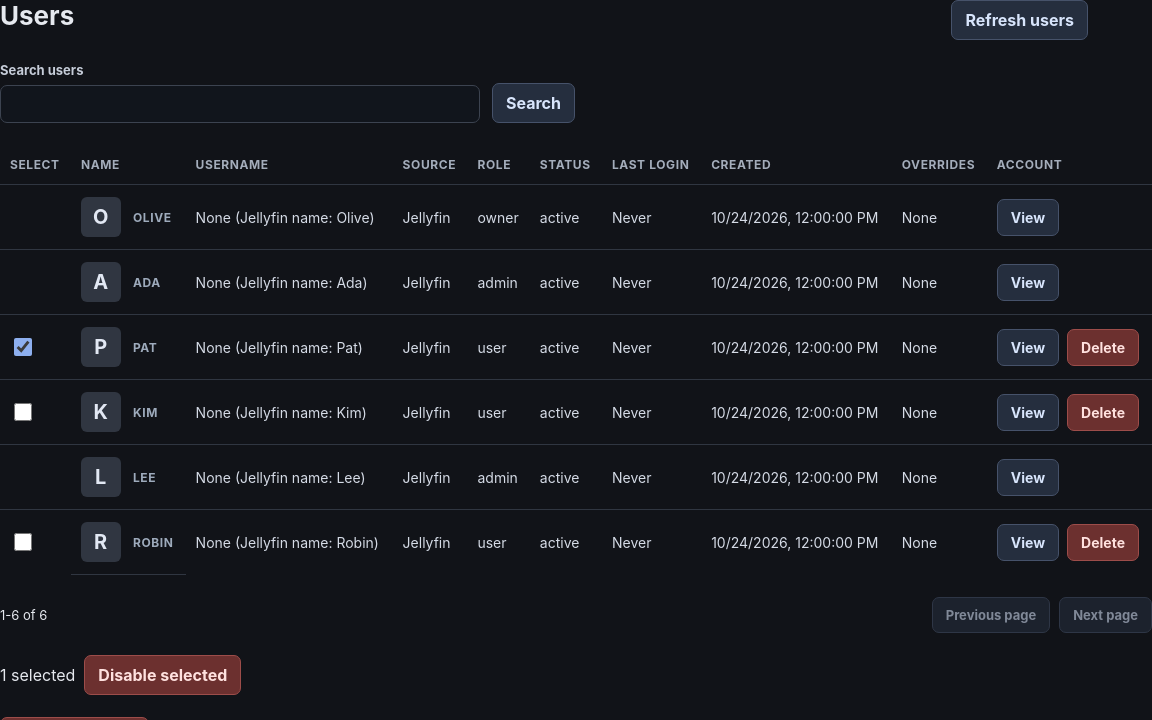
Test case: Account deletion entry points › offers bulk confirmation only after every preview settles, and submits exactly the reviewed targets
The width and height of the screenshot is (1152, 720).
Earlier steps of the test are not shown.
Later steps or results of the test are not shown.
Click the checkbox named "Select Kim" at (23, 412), box left=14, top=403, right=32, bottom=421
(page scrolled)
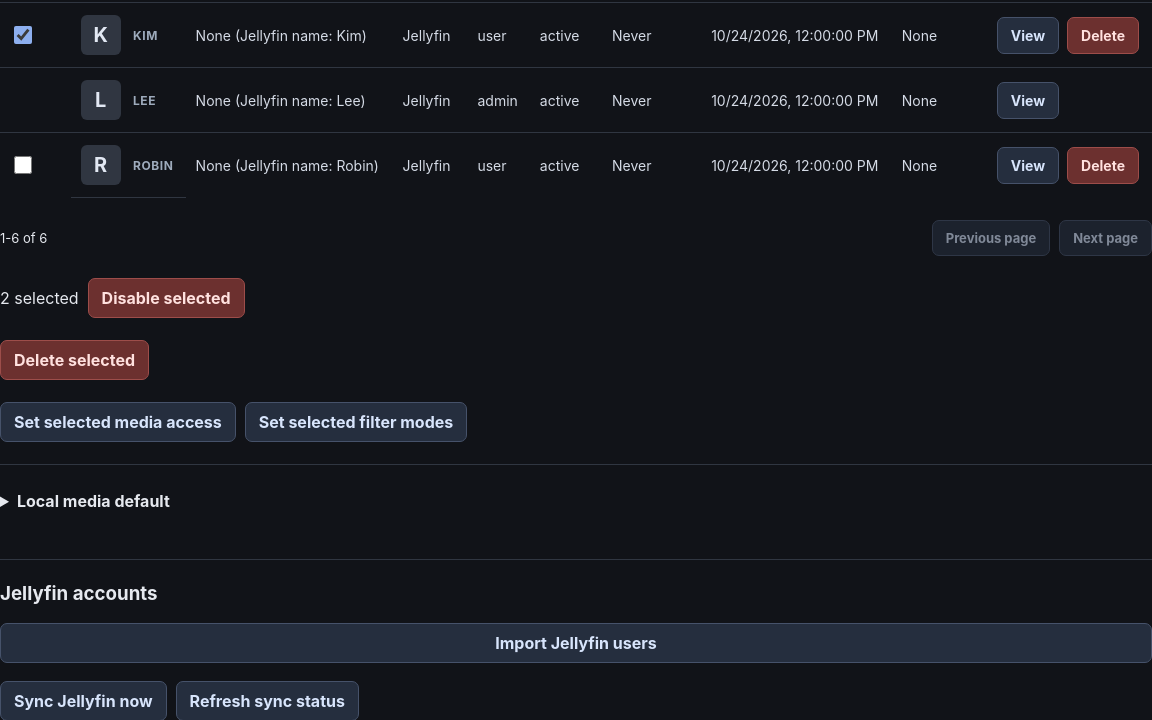
Click the button "Delete selected" at (75, 360), box left=0, top=340, right=149, bottom=380
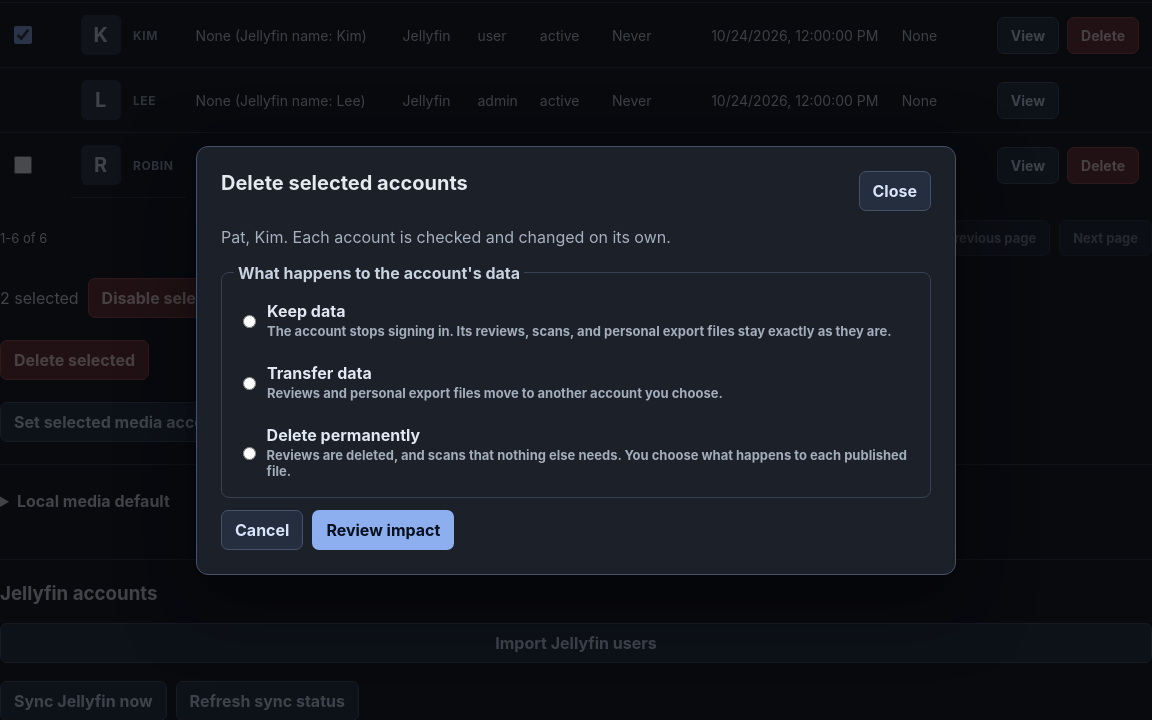
Click the radio button labelled "Keep data" at (250, 321), box left=243, top=314, right=256, bottom=328
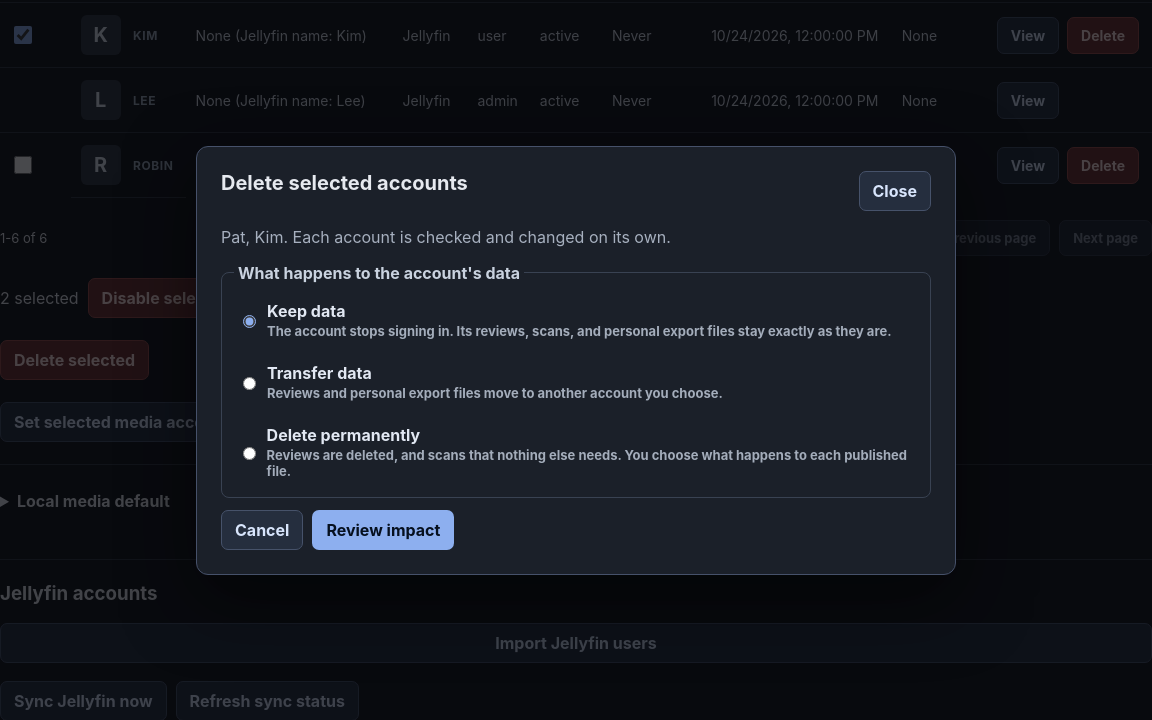
Click the button "Review impact" at (383, 530), box left=312, top=510, right=454, bottom=550
(page scrolled)
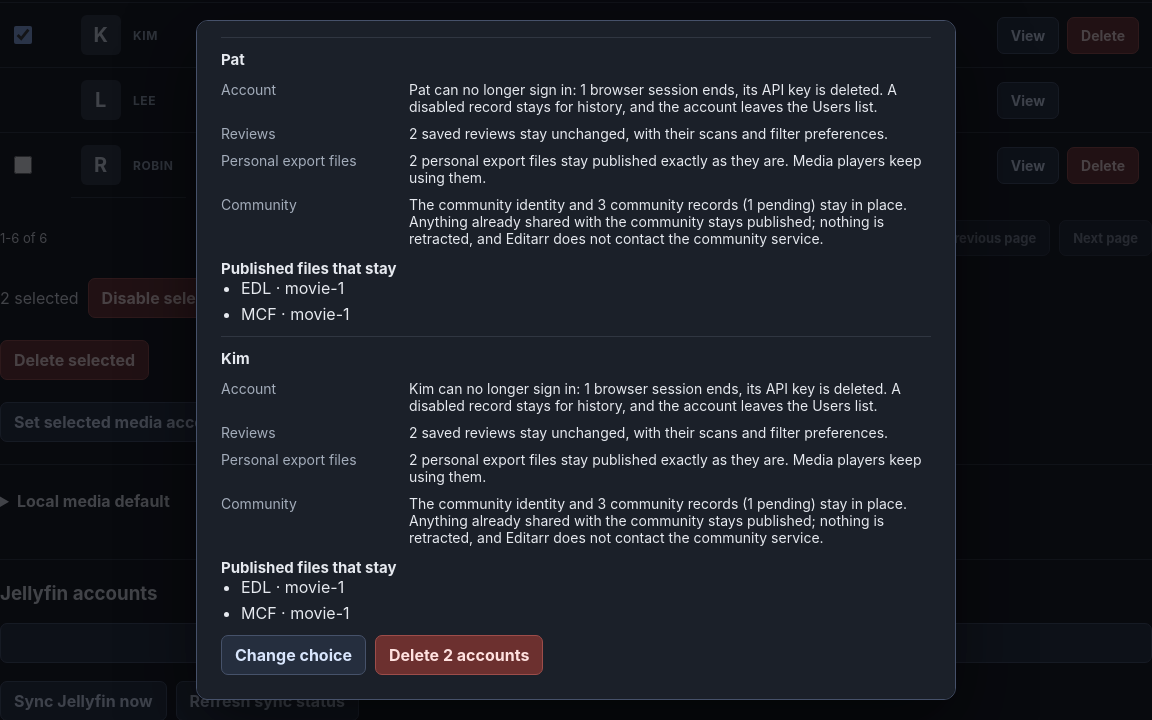
Click the button "Delete 2 accounts" at (459, 655), box left=375, top=635, right=543, bottom=675
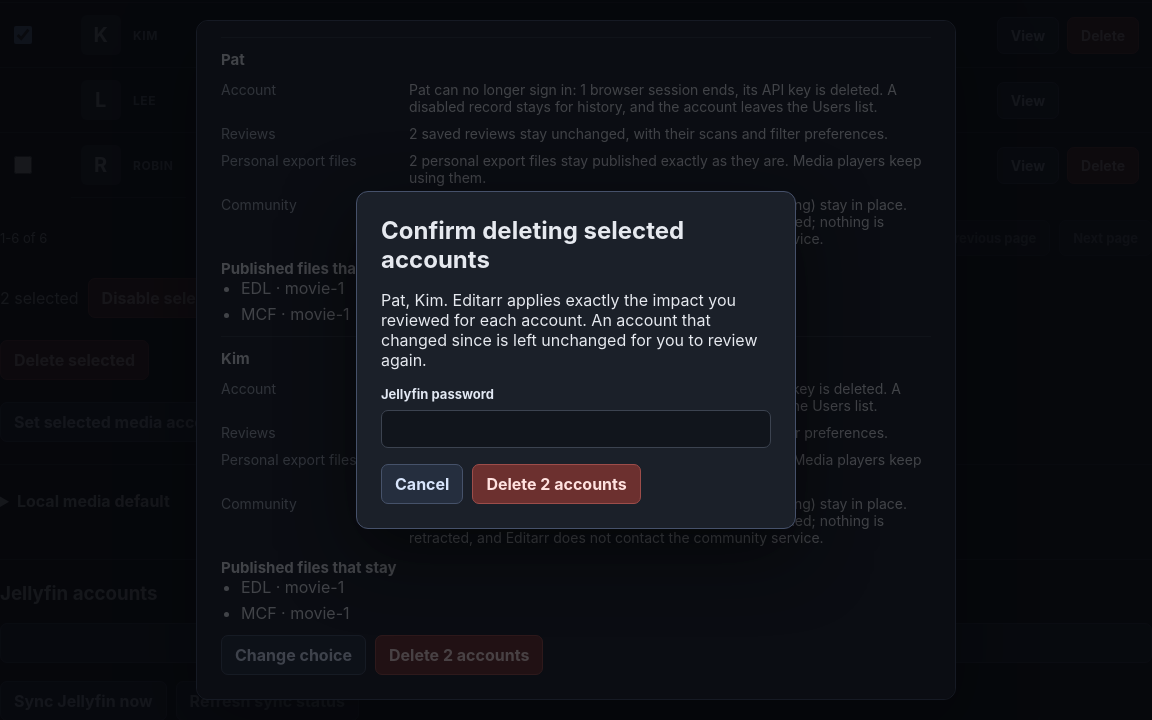
Type "admin synthetic password" into the password field labelled "Jellyfin password" at (576, 429), box left=381, top=410, right=771, bottom=448
Click the button "Delete 2 accounts" at (557, 484), box left=472, top=464, right=641, bottom=504
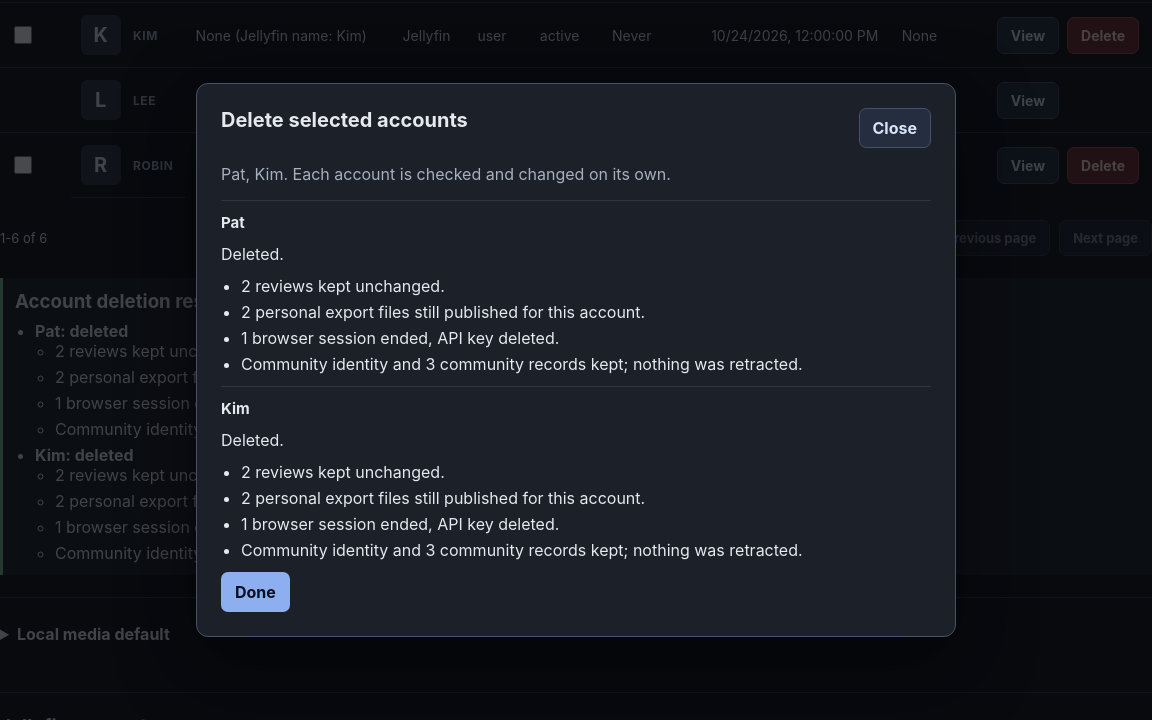
Check: the element named "Deletion of Kim" shows "Deleted.", box left=221, top=430, right=284, bottom=450
